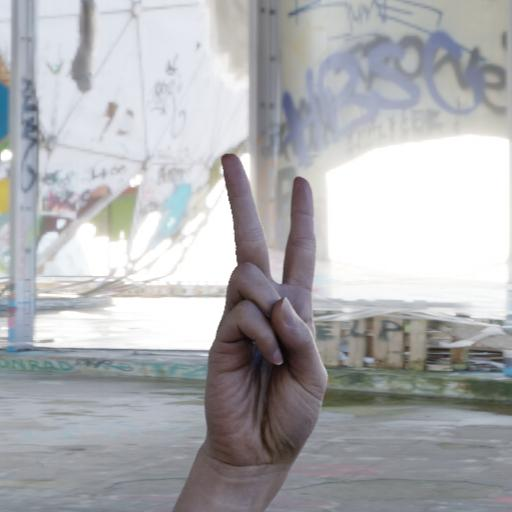V: (199, 148, 330, 475)
